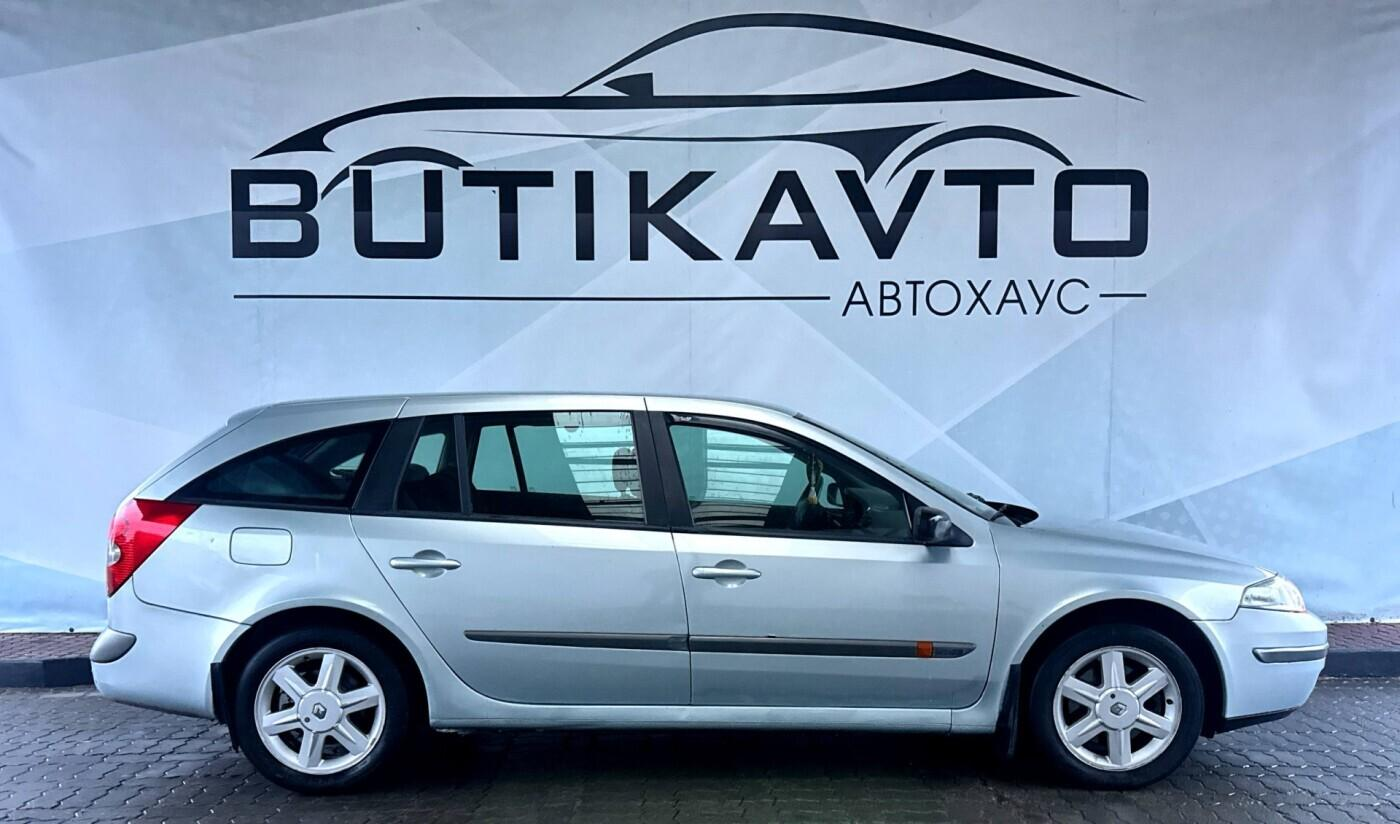Laguna_2001-2005: (91, 392, 1327, 794)
